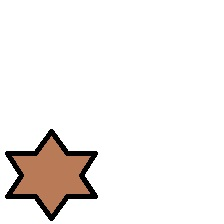star: (5, 130, 98, 221)
